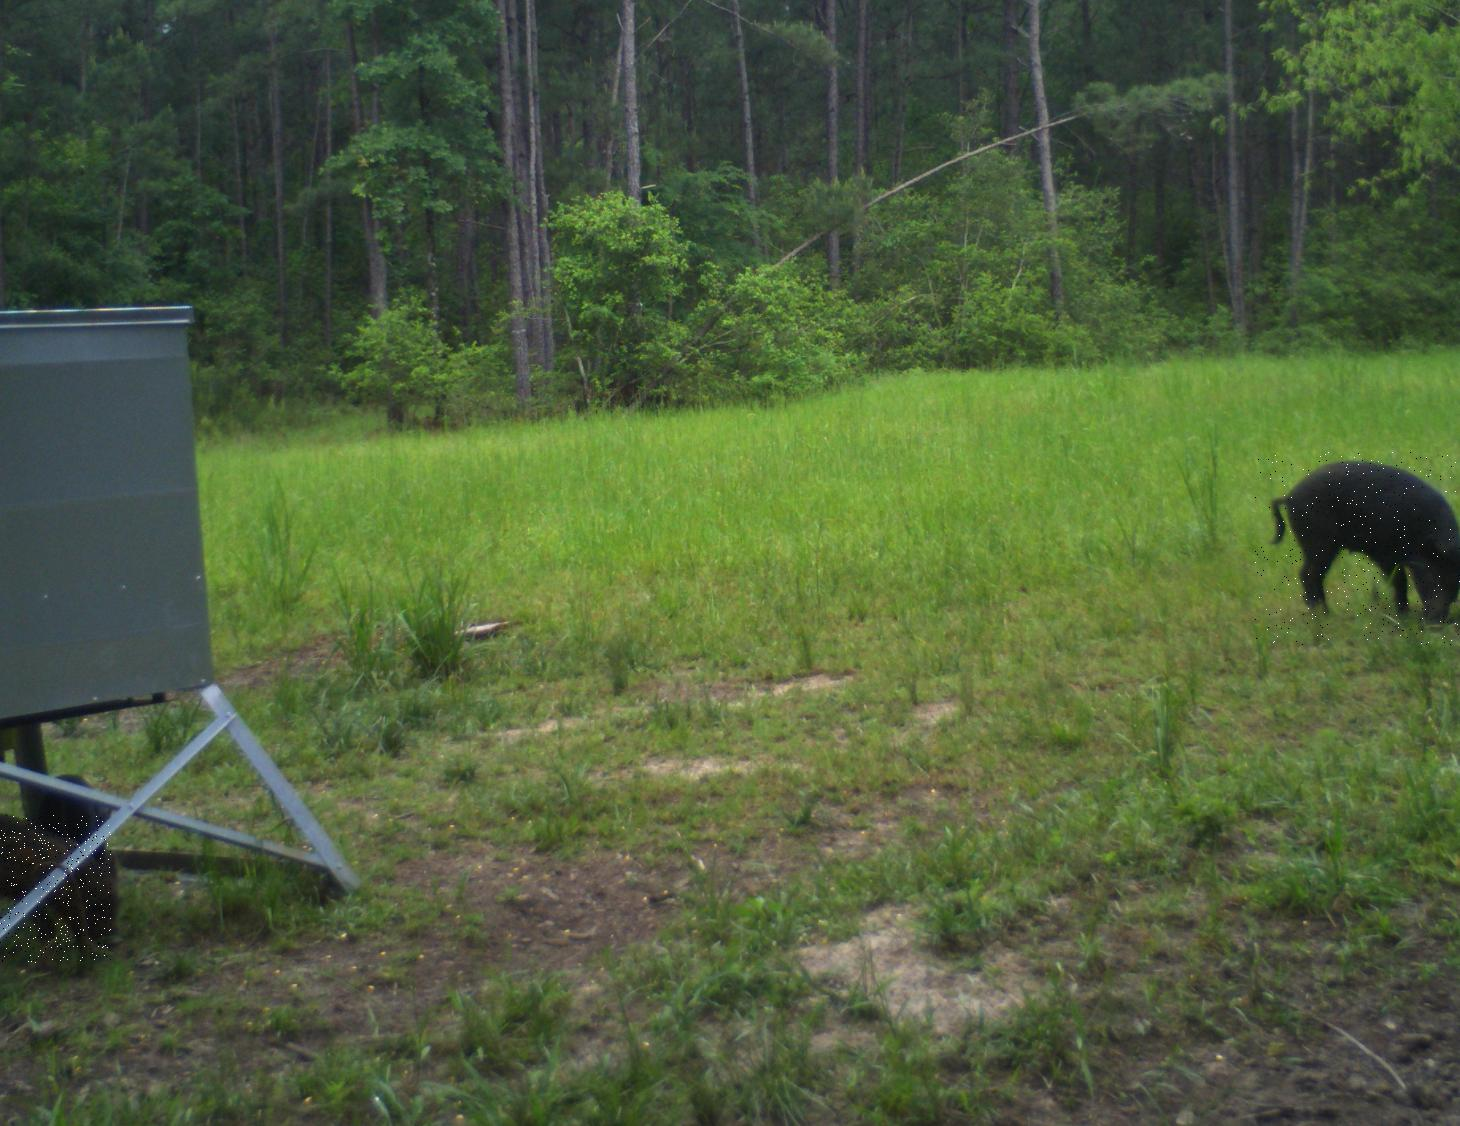Hog: (1255, 452, 1460, 645), (0, 815, 111, 963)
